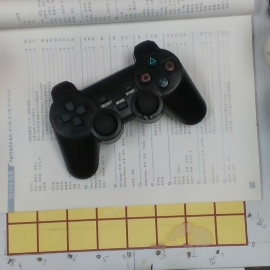remote: (48, 39, 208, 181)
